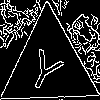Y: (24, 40, 69, 96)
